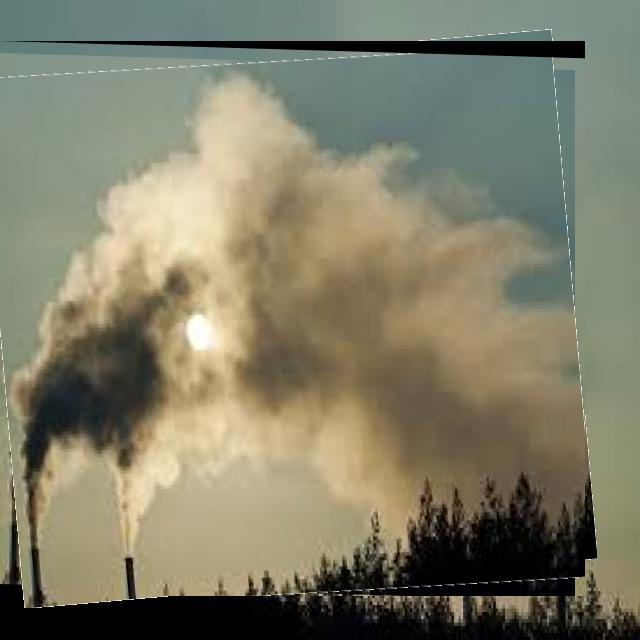smoke: (84, 74, 544, 245), (266, 251, 566, 485), (126, 252, 255, 552), (28, 254, 110, 544)
